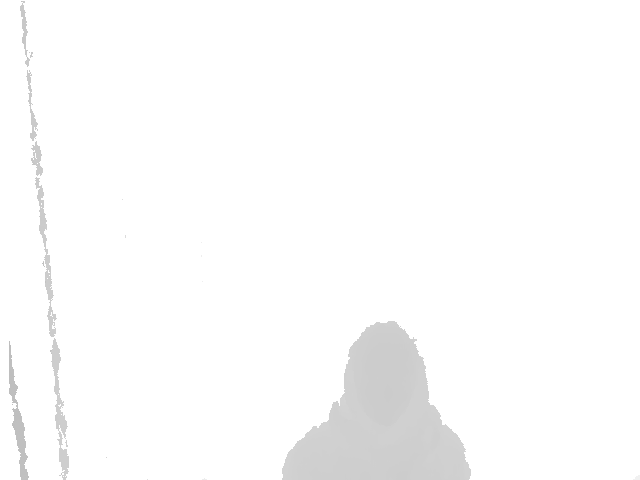head: (343, 322, 429, 455)
person: (280, 322, 473, 480)
